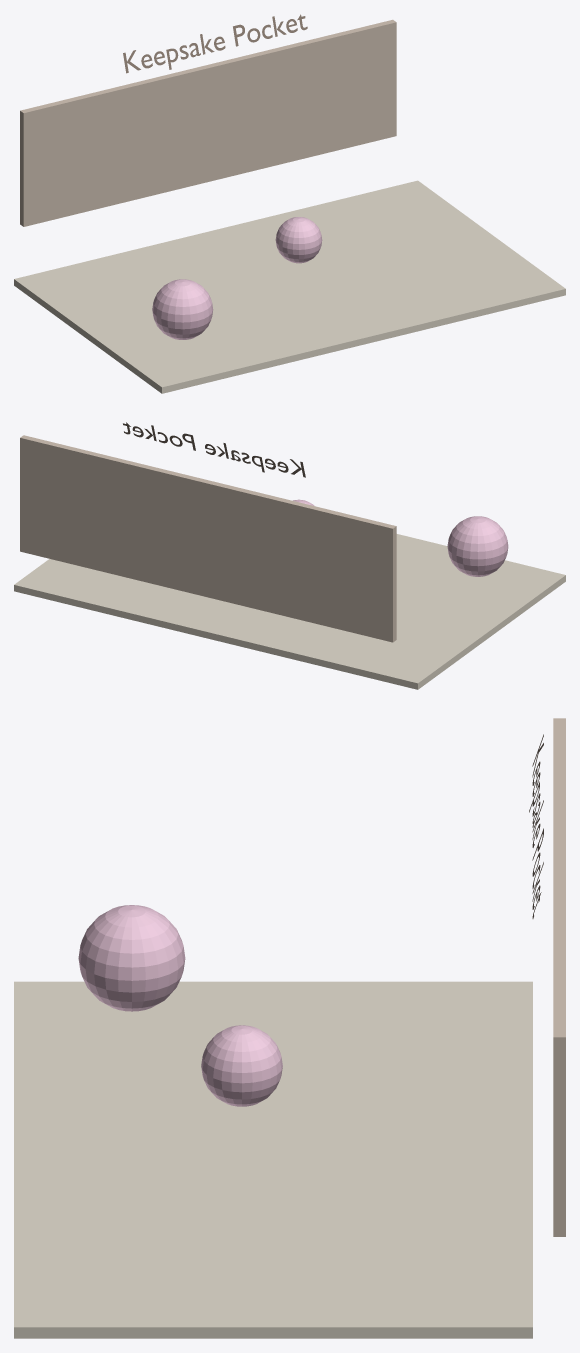
Rendered from 10_inventory.glb.
The picture shows the model from 3 angles, top to bottom: view 1: azimuth 30°, elevation 25°; view 2: azimuth 150°, elevation 25°; view 3: azimuth 270°, elevation 25°; orthographic projection. The views are drawn at different scales.
Parts seen in each view (by area): view 1: PaperFloor-col, BackCard, FpeRushPlayer, KeepsakePocket-rigid, TitleLabel; view 2: BackCard, PaperFloor-col, FpeRushPlayer, TitleLabel; view 3: PaperFloor-col, FpeRushPlayer, BackCard, KeepsakePocket-rigid, TitleLabel.
Part boxes in pixels (x1,y1,x2,y2): PaperFloor-col: (14,180,565,393); BackCard: (20,19,396,226); FpeRushPlayer: (152,279,213,339); KeepsakePocket-rigid: (275,217,322,263); TitleLabel: (123,14,307,73); BackCard: (20,435,396,642); PaperFloor-col: (14,534,565,689); FpeRushPlayer: (447,516,508,576); TitleLabel: (123,422,305,477); PaperFloor-col: (14,981,532,1338); FpeRushPlayer: (78,905,185,1011); BackCard: (553,718,565,1236); KeepsakePocket-rigid: (201,1025,282,1106); TitleLabel: (529,734,543,918).
Size of the model in its own units: 5.2 by 2.49 by 3.51.
